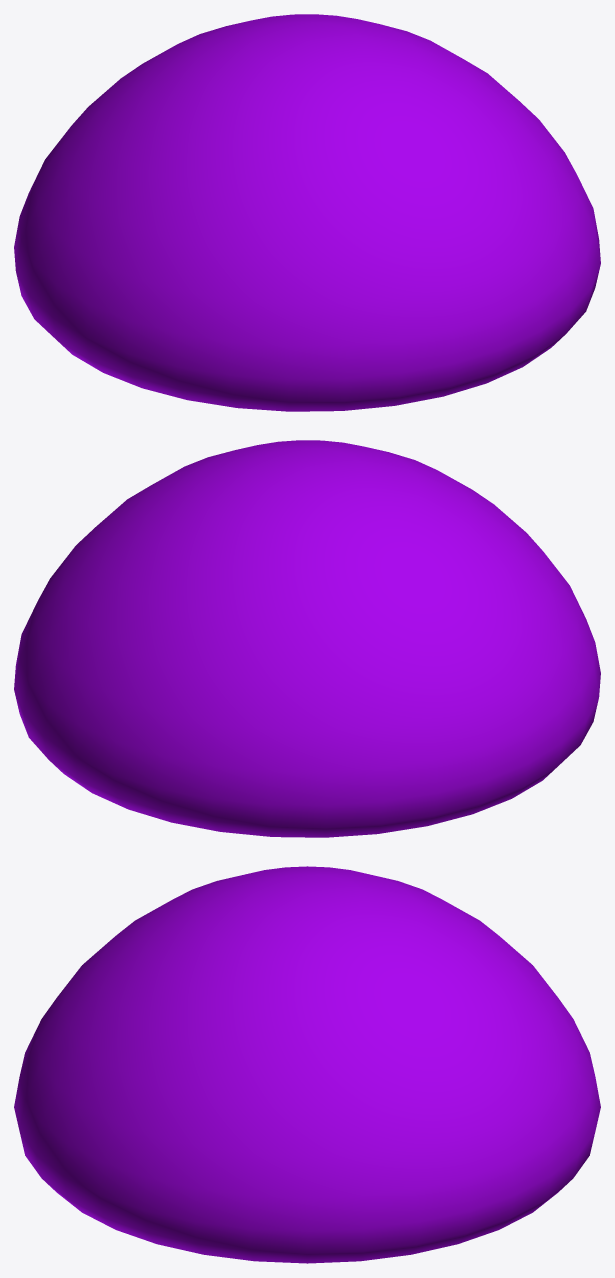
Rendered from slime.fbx.
The picture shows the model from 3 angles, top to bottom: view 1: azimuth 30°, elevation 25°; view 2: azimuth 150°, elevation 25°; view 3: azimuth 270°, elevation 25°; orthographic projection.
Parts seen in each view (by area): view 1: 球; view 2: 球; view 3: 球.
Part boxes in pixels (bbox=[...]): 球: bbox=[14, 14, 600, 411]; 球: bbox=[14, 440, 600, 837]; 球: bbox=[14, 866, 600, 1263].
Size of the model in its own units: 200 by 100 by 200.
